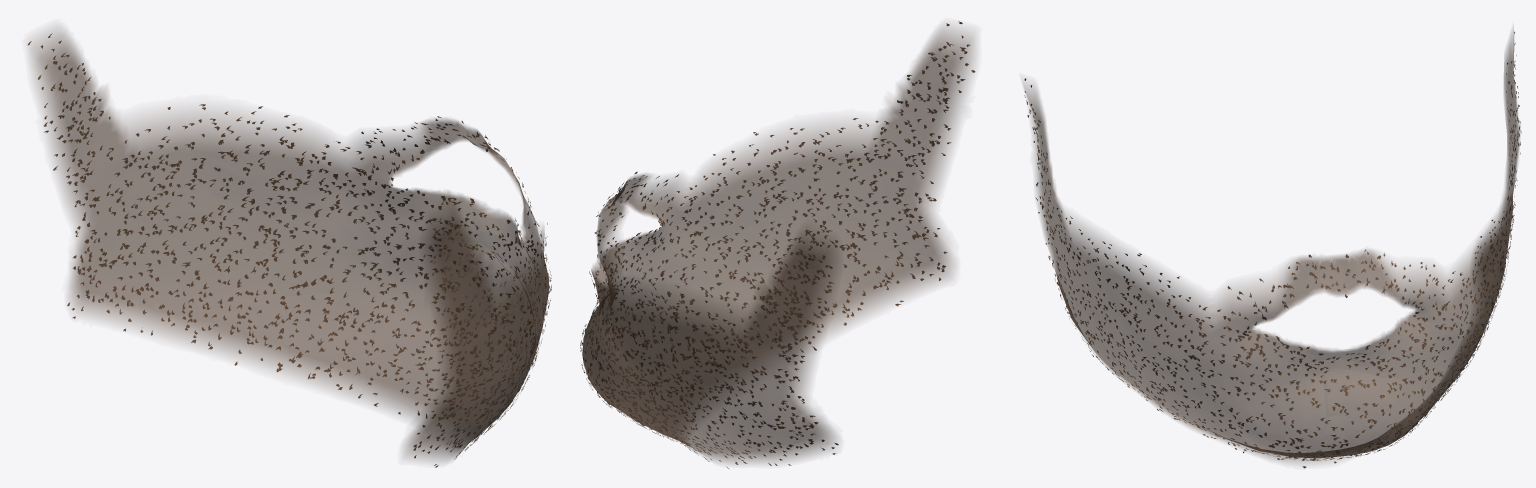
The model's file is beard-m3-stubble.glb.
The picture shows the model from 3 angles, left to right: view 1: azimuth 30°, elevation 25°; view 2: azimuth 150°, elevation 25°; view 3: azimuth 270°, elevation 25°; orthographic projection. The views are drawn at different scales.
Parts seen in each view (by area): view 1: Beard_m3_stubble_root, Beard_m3_stubble_cards; view 2: Beard_m3_stubble_root, Beard_m3_stubble_cards; view 3: Beard_m3_stubble_root, Beard_m3_stubble_cards.
Boxes of the visible parts, x1,y1,x2,y2 form: Beard_m3_stubble_root: (29, 27, 549, 461); Beard_m3_stubble_cards: (27, 33, 551, 467); Beard_m3_stubble_root: (582, 26, 975, 463); Beard_m3_stubble_cards: (580, 21, 975, 468); Beard_m3_stubble_root: (1023, 27, 1520, 463); Beard_m3_stubble_cards: (1024, 32, 1521, 468).
Bounding box in the file's own units: 0.1306 × 0.1245 × 0.1643.
Materials: 2 (1 with a texture image).
